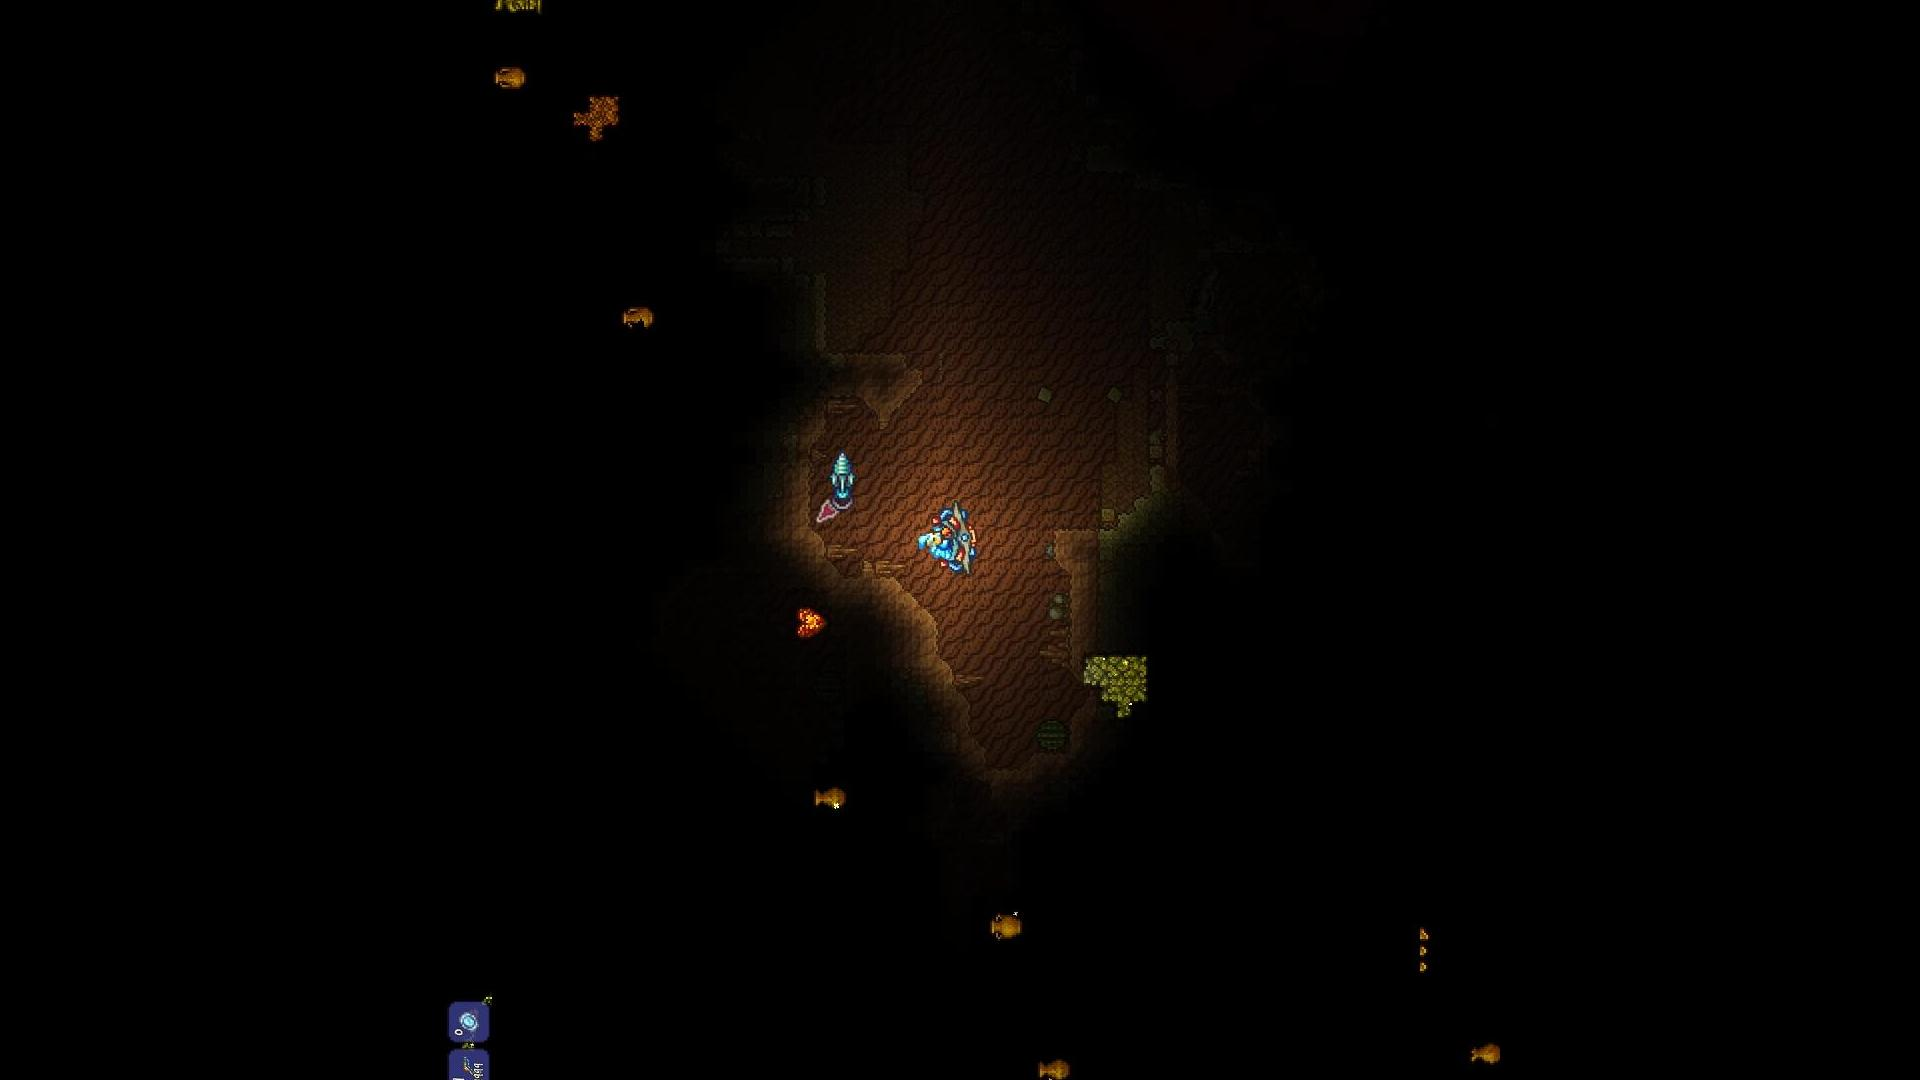lifeC: (790, 603, 833, 642)
